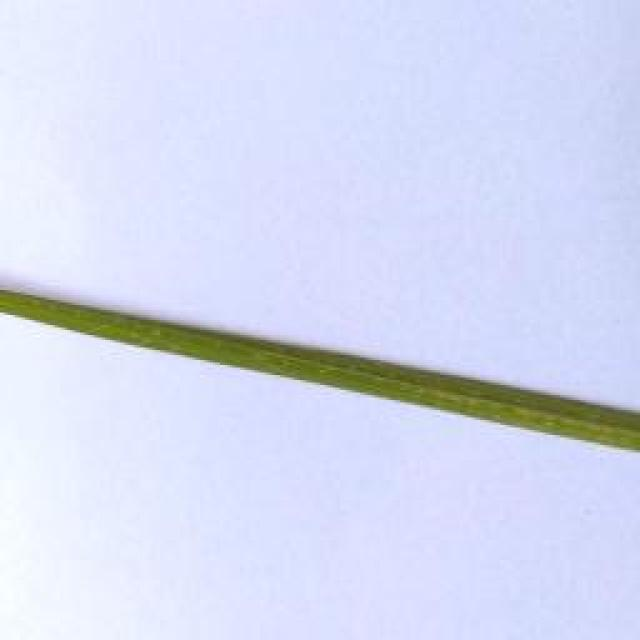Healthy-Plant: (0, 286, 640, 453)
